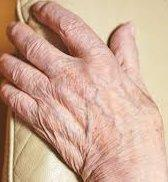Goosebumps: (0, 1, 166, 181)
